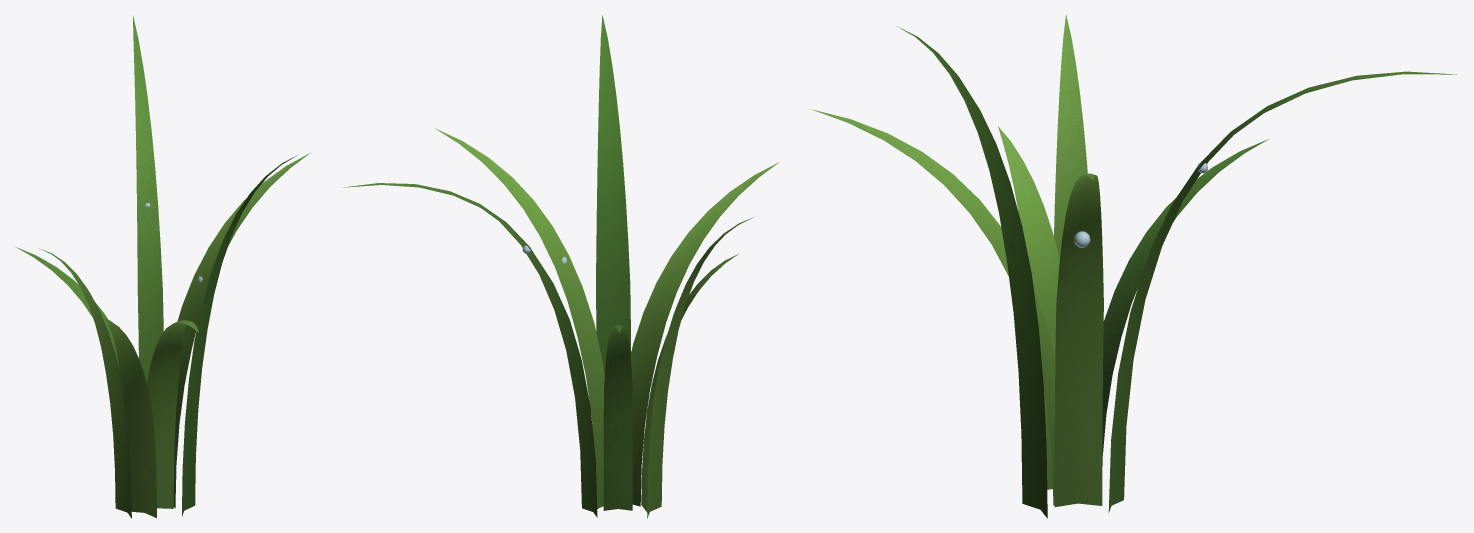
The model's file is grass-2.obj.
The picture shows the model from 3 angles, left to right: view 1: azimuth 30°, elevation 25°; view 2: azimuth 150°, elevation 25°; view 3: azimuth 270°, elevation 25°; orthographic projection. The views are drawn at different scales.
Parts seen in each view (by area): view 1: grass; view 2: grass; view 3: grass.
Part boxes in pixels (left/top/right/bottom): grass: left=16, top=15, right=309, bottom=518; grass: left=343, top=15, right=779, bottom=518; grass: left=810, top=14, right=1457, bottom=518.
Size of the model in its own units: 1391 by 1779 by 1986.
